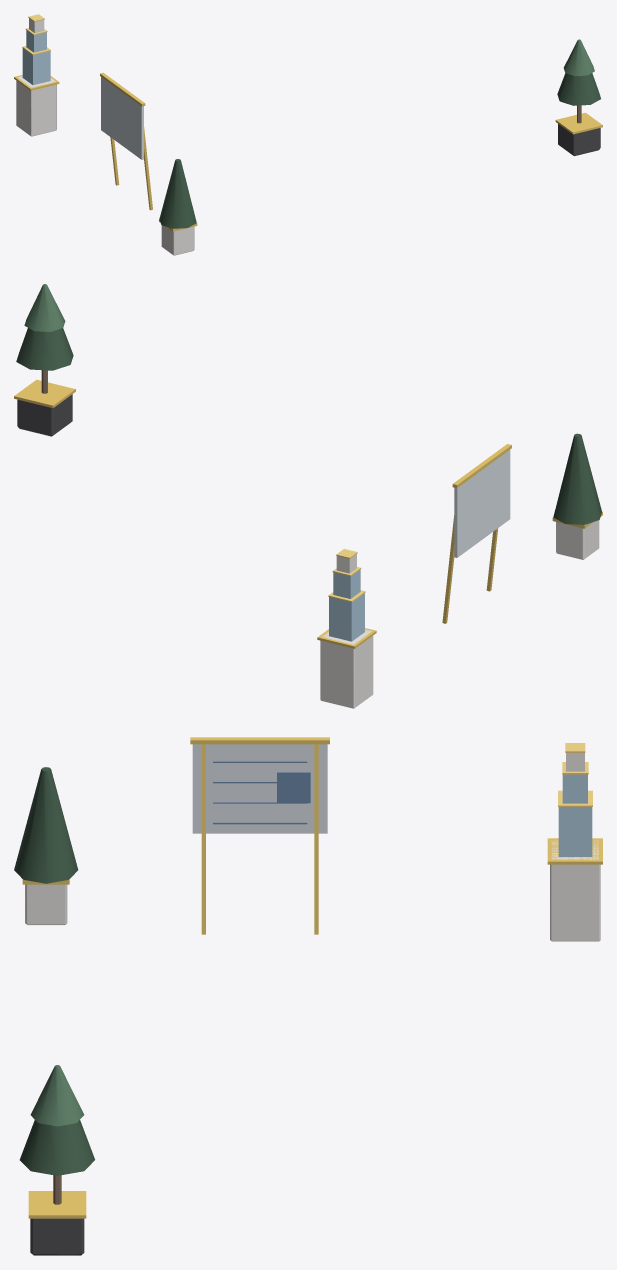
Rendered from einrichtung_immobilien_buehne.glb.
3 renders of one model, top to bottom at view 1: azimuth 30°, elevation 25°; view 2: azimuth 150°, elevation 25°; view 3: azimuth 270°, elevation 25°, orthographic. The views are drawn at different scales.
Visible parts, largest first — view 1: einrichtung_immobilien_buehne; view 2: einrichtung_immobilien_buehne; view 3: einrichtung_immobilien_buehne.
Boxes of the visible parts, <box> form: einrichtung_immobilien_buehne: <box>14,14,602,255</box>; einrichtung_immobilien_buehne: <box>14,284,602,708</box>; einrichtung_immobilien_buehne: <box>14,737,602,1255</box>.
Size of the model in its own units: 7.52 by 1.82 by 5.23.
